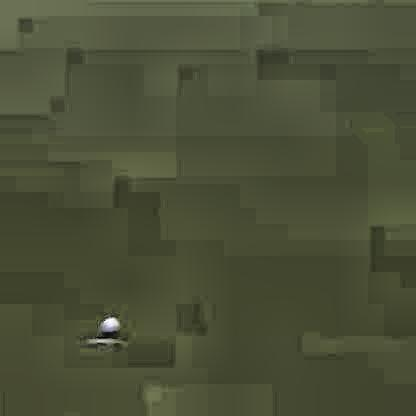golfball: (98, 315, 116, 333)
